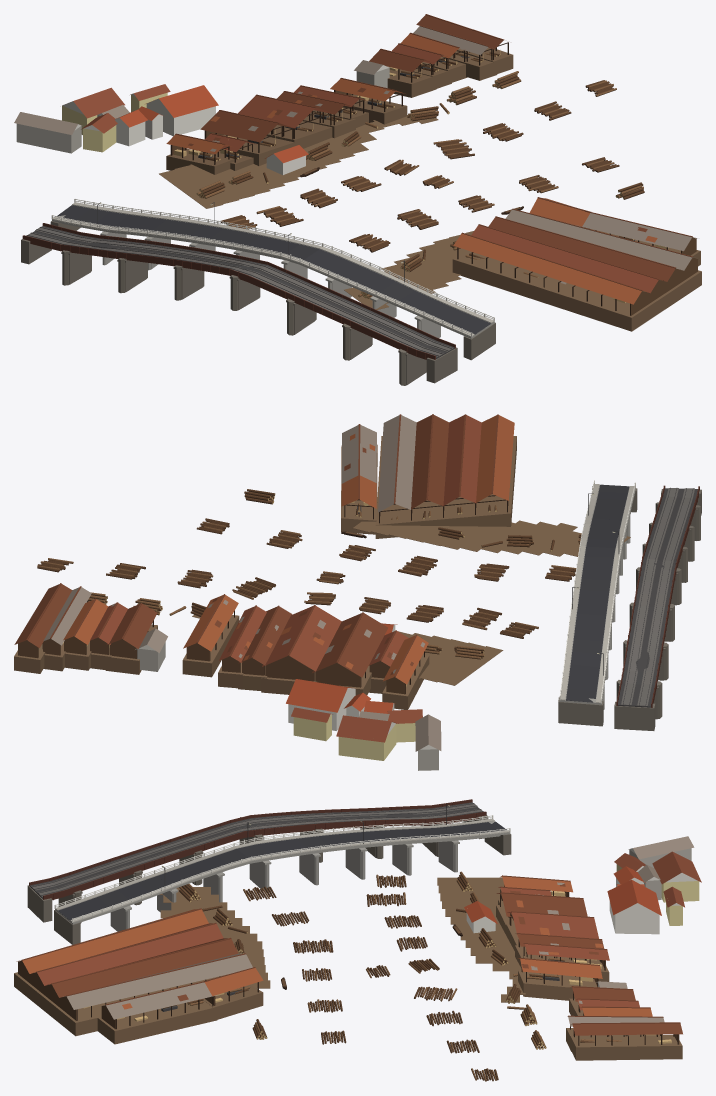
The model's file is kallai.glb.
The picture shows the model from 3 angles, top to bottom: view 1: azimuth 30°, elevation 25°; view 2: azimuth 150°, elevation 25°; view 3: azimuth 270°, elevation 25°; orthographic projection. The views are drawn at different scales.
Visible parts, largest first — view 1: kallai; view 2: kallai; view 3: kallai.
Part boxes in pixels (x1=…): kallai: x1=14, y1=14, x2=701, y2=385; kallai: x1=14, y1=414, x2=701, y2=770; kallai: x1=14, y1=799, x2=701, y2=1081.
Bounding box in the file's own units: 181 × 24.54 × 186.
